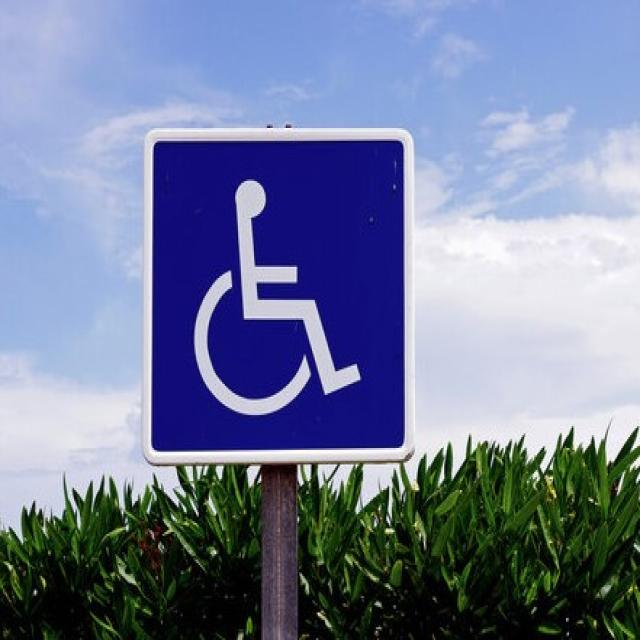symbol_of_access: (141, 124, 415, 464)
